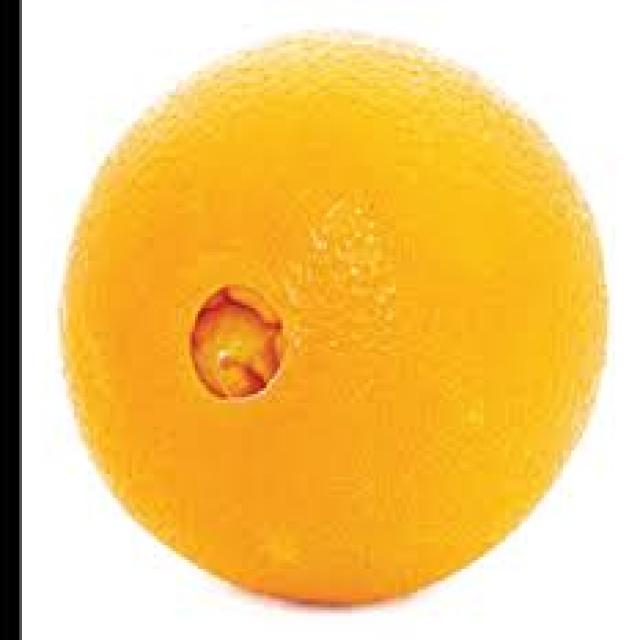orange: (58, 35, 610, 608)
